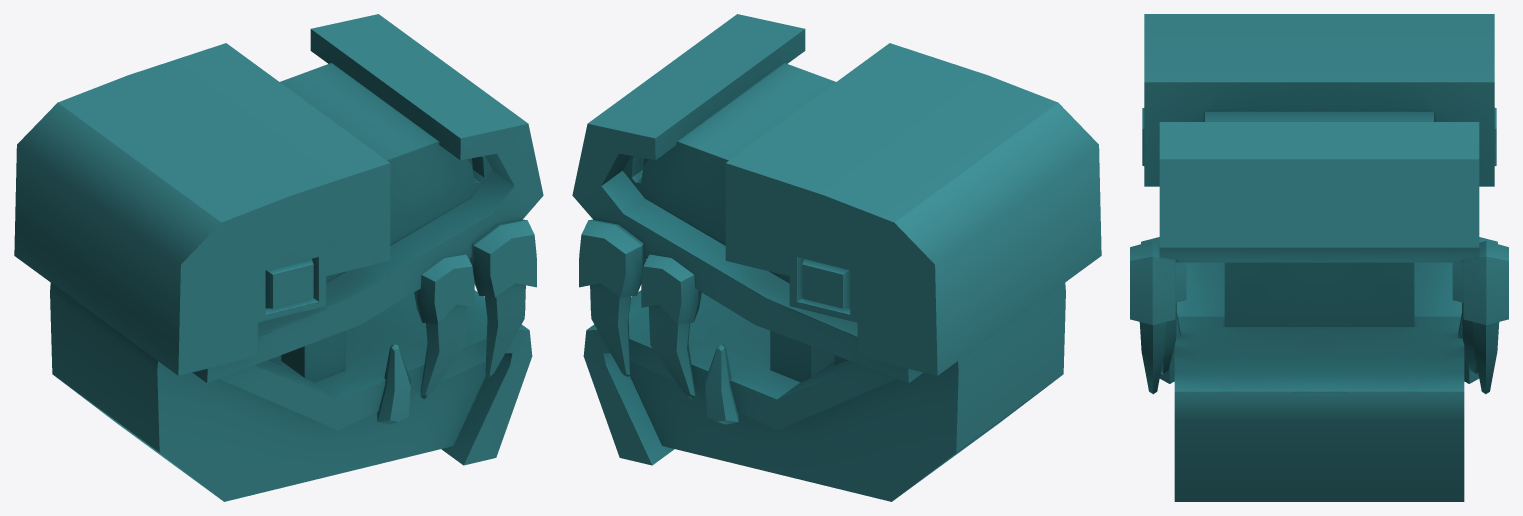
Rendered from statueHead.fbx.
3 renders of one model, left to right at view 1: azimuth 30°, elevation 25°; view 2: azimuth 150°, elevation 25°; view 3: azimuth 270°, elevation 25°, orthographic. The views are drawn at different scales.
Parts seen in each view (by area): view 1: statueHead_geo; view 2: statueHead_geo; view 3: statueHead_geo.
Boxes of the visible parts, x1=… form: statueHead_geo: x1=14, y1=14, x2=543, y2=501; statueHead_geo: x1=572, y1=14, x2=1101, y2=501; statueHead_geo: x1=1130, y1=14, x2=1508, y2=501.
Bounding box in the file's own units: 75.88 × 65.24 × 62.61.
Materials: 1 (1 with a texture image).
